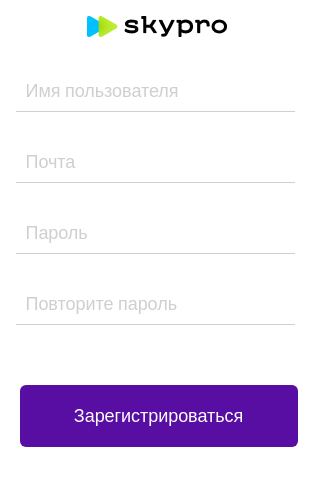
Test: Signup component › should display error when username field is empty on submit
What coordinates should you click on to do the following:
click the link "Зарегистрироваться"
I would click on:
 (158, 416)
Its box is [74, 404, 243, 426].
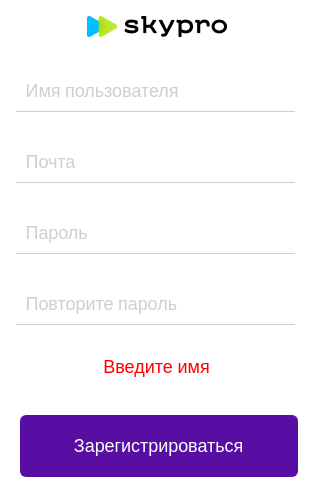
Result: the text "Введите имя" is shown at [103, 354, 210, 378]
